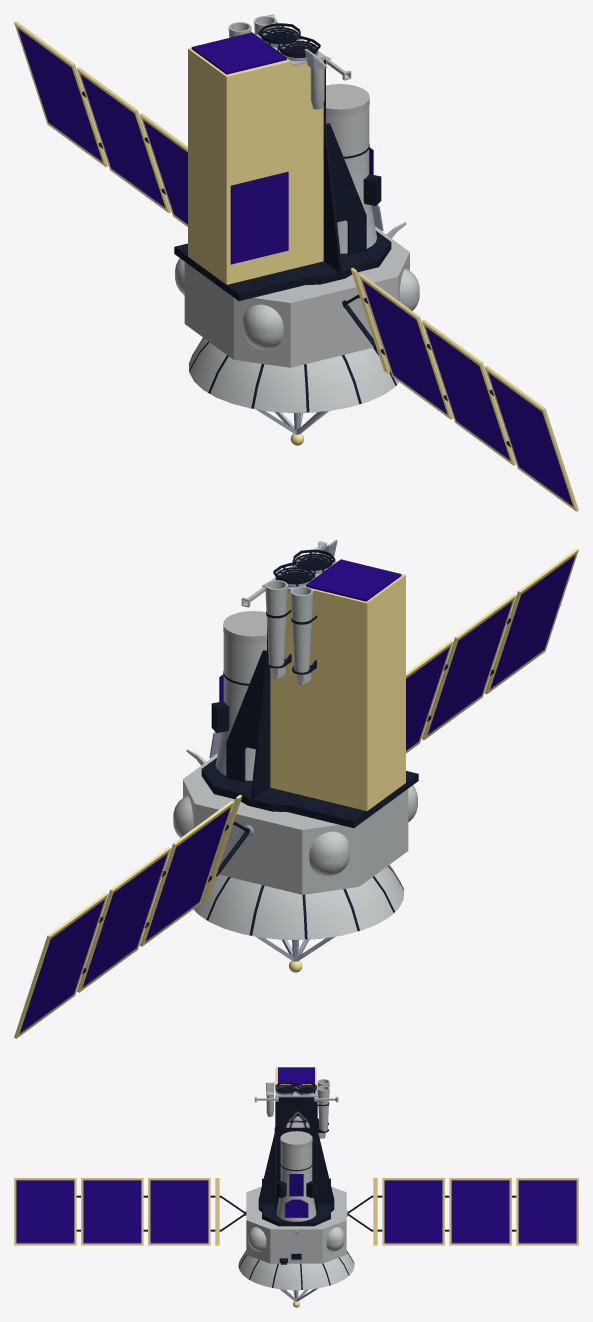
Rendered from satellite.glb.
The picture shows the model from 3 angles, top to bottom: view 1: azimuth 30°, elevation 25°; view 2: azimuth 150°, elevation 25°; view 3: azimuth 270°, elevation 25°; orthographic projection. The views are drawn at different scales.
Parts seen in each view (by area): view 1: Cube.001_Cube.007; view 2: Cube.001_Cube.007; view 3: Cube.001_Cube.007.
Part boxes in pixels (bbox=[...]): Cube.001_Cube.007: bbox=[14, 14, 578, 511]; Cube.001_Cube.007: bbox=[14, 540, 578, 1038]; Cube.001_Cube.007: bbox=[14, 1067, 578, 1307].
Size of the model in its own units: 0.9 by 1.75 by 4.06.
1 material, 1 textured.
